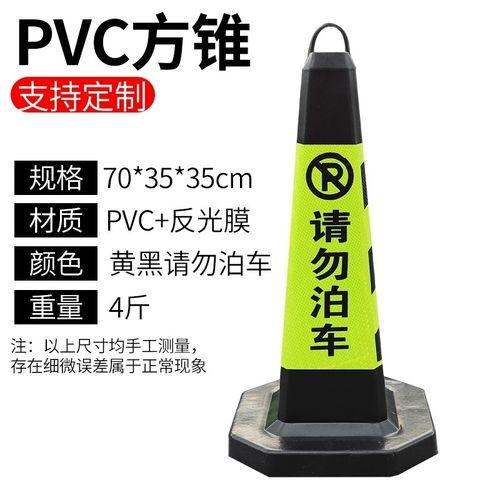cone_barrel: (248, 34, 418, 453)
